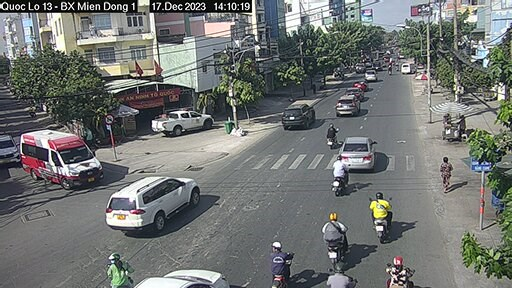car: (19, 130, 105, 191), (106, 173, 198, 228), (149, 109, 215, 135), (339, 137, 375, 172), (281, 106, 316, 128), (333, 98, 362, 116), (365, 69, 380, 83)
motorbike: (266, 242, 303, 288), (363, 195, 397, 242), (327, 210, 349, 271), (325, 158, 353, 196), (326, 124, 337, 146)
